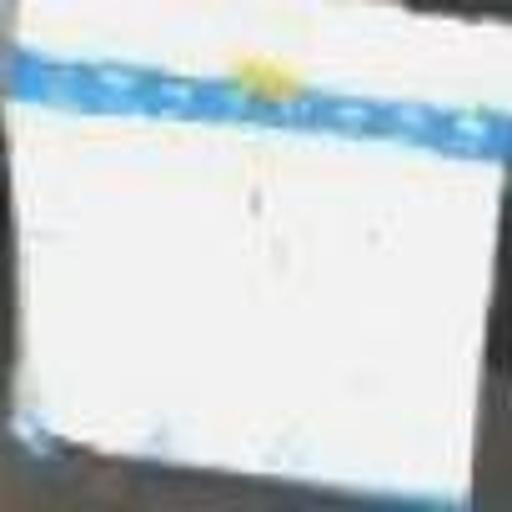Amazon: (21, 0, 487, 493)
